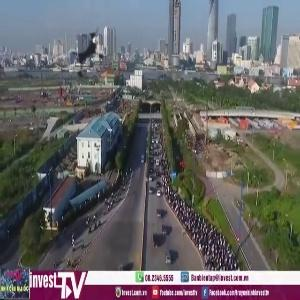drone: (50, 14, 135, 99)
